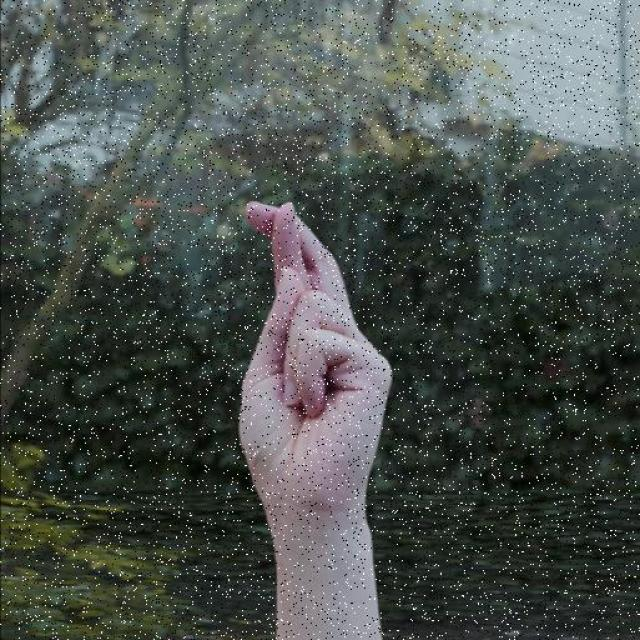R: (231, 196, 394, 516)
